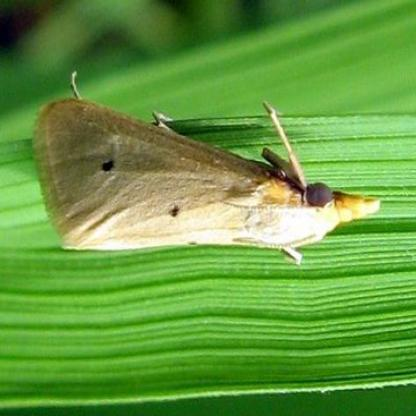stem-borer: (29, 68, 382, 268)
